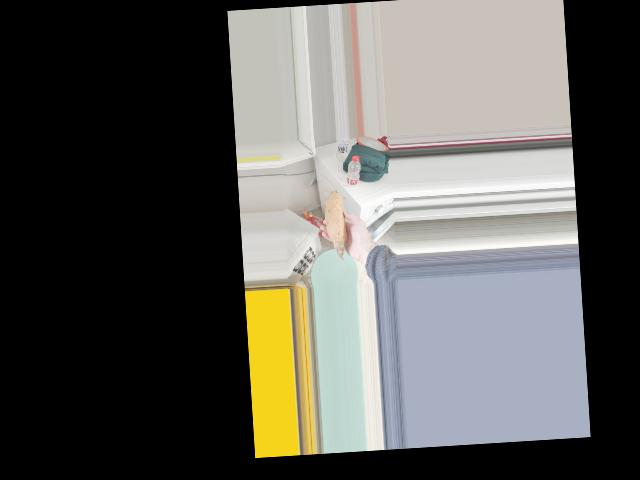sweet_potato: (323, 184, 351, 246)
